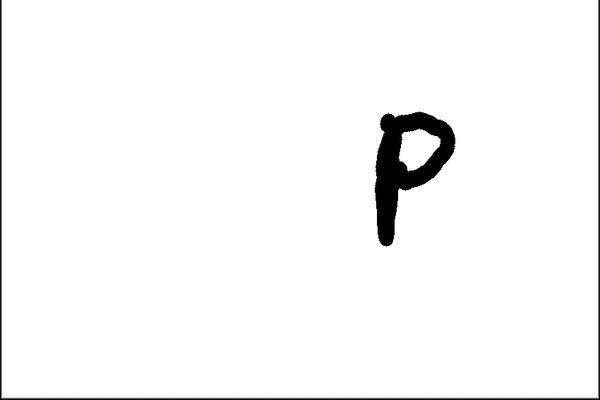P: (358, 101, 465, 257)
